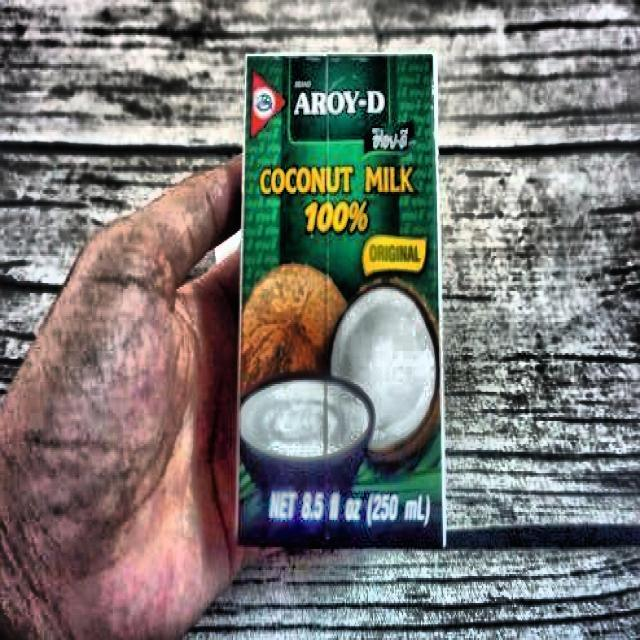cardboard: (234, 50, 446, 549)
